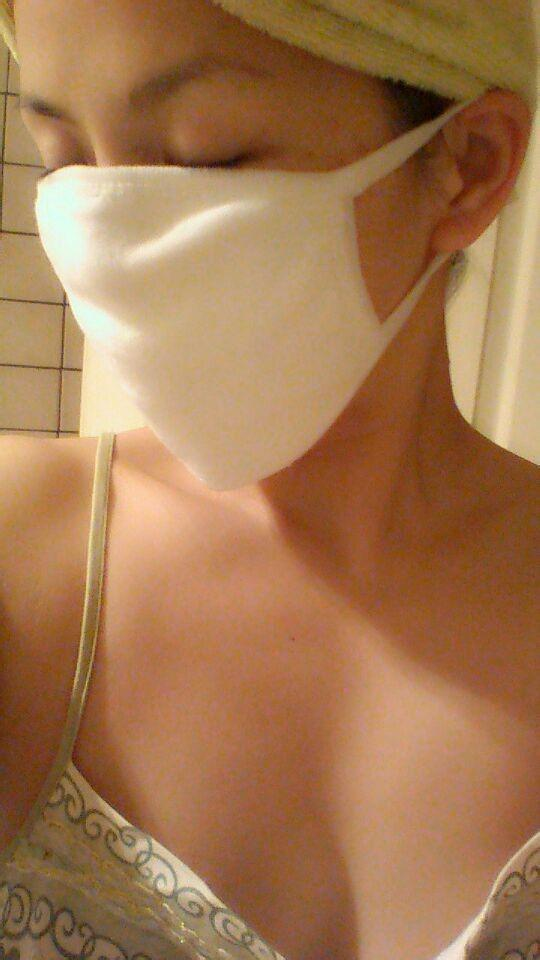OK: (27, 43, 455, 466)
